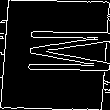M_E: (1, 31, 109, 79)
